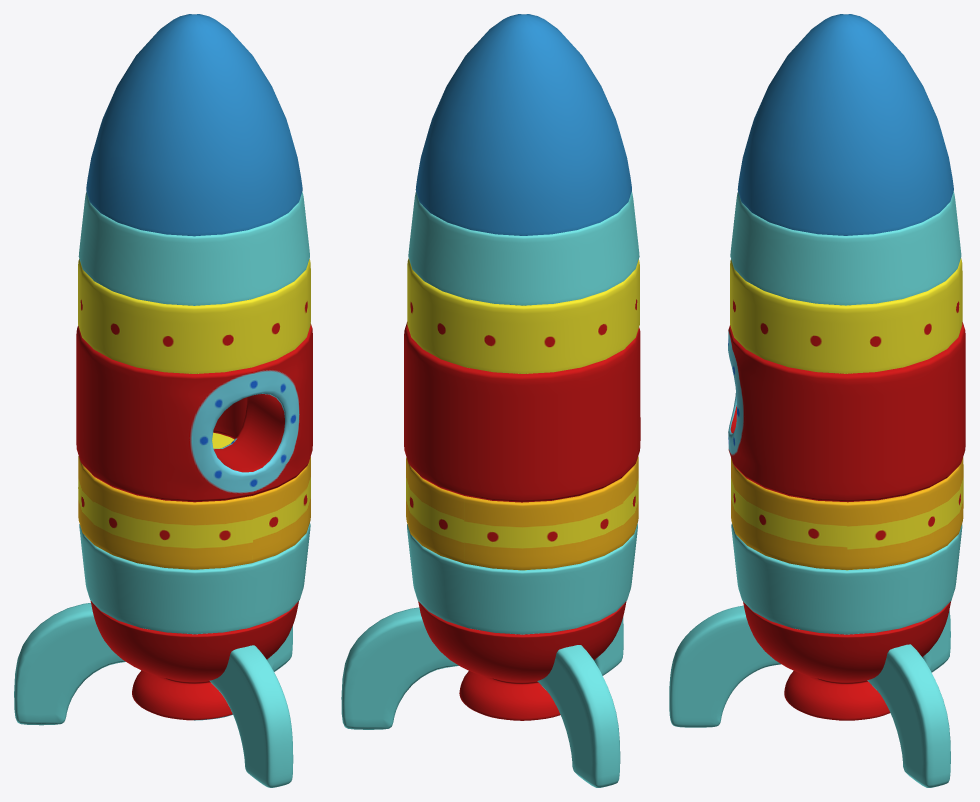
The model's file is rocket.glb.
The picture shows the model from 3 angles, left to right: view 1: azimuth 30°, elevation 25°; view 2: azimuth 150°, elevation 25°; view 3: azimuth 270°, elevation 25°; orthographic projection.
Parts seen in each view (by area): view 1: Cylinder.009_4, Cylinder.014_7, Cylinder.011_6, Cylinder.015_8, Cylinder.010_5, Cylinder.016_9, Cylinder.017_10, Cube.004_1, Cube.006_3; view 2: Cylinder.009_4, Cylinder.014_7, Cylinder.011_6, Cylinder.010_5, Cylinder.015_8, Cylinder.016_9, Cylinder.017_10, Cube.005_2, Cube.004_1, Cube.006_3; view 3: Cylinder.009_4, Cylinder.014_7, Cylinder.011_6, Cylinder.010_5, Cylinder.015_8, Cylinder.016_9, Cylinder.017_10, Cube.006_3, Cube.005_2, Cube.004_1.
Boxes of the visible parts, x1=… form: Cylinder.009_4: x1=86, y1=14, x2=302, y2=236; Cylinder.014_7: x1=76, y1=323, x2=312, y2=502; Cylinder.011_6: x1=78, y1=192, x2=309, y2=305; Cylinder.015_8: x1=78, y1=432, x2=310, y2=569; Cylinder.010_5: x1=78, y1=259, x2=310, y2=373; Cylinder.016_9: x1=79, y1=523, x2=310, y2=634; Cylinder.017_10: x1=90, y1=601, x2=298, y2=720; Cube.004_1: x1=14, y1=602, x2=125, y2=725; Cube.006_3: x1=209, y1=645, x2=293, y2=787; Cylinder.009_4: x1=415, y1=14, x2=631, y2=235; Cylinder.014_7: x1=404, y1=322, x2=640, y2=502; Cylinder.011_6: x1=408, y1=191, x2=639, y2=305; Cylinder.010_5: x1=407, y1=258, x2=639, y2=373; Cylinder.015_8: x1=406, y1=456, x2=638, y2=570; Cylinder.016_9: x1=407, y1=524, x2=637, y2=634; Cylinder.017_10: x1=418, y1=601, x2=626, y2=720; Cube.005_2: x1=341, y1=607, x2=458, y2=729; Cube.004_1: x1=537, y1=645, x2=620, y2=787; Cube.006_3: x1=594, y1=617, x2=623, y2=675; Cylinder.009_4: x1=737, y1=14, x2=953, y2=235; Cylinder.014_7: x1=728, y1=322, x2=965, y2=502; Cylinder.011_6: x1=730, y1=191, x2=961, y2=305; Cylinder.010_5: x1=730, y1=258, x2=962, y2=373; Cylinder.015_8: x1=731, y1=457, x2=963, y2=570; Cylinder.016_9: x1=731, y1=523, x2=962, y2=634; Cylinder.017_10: x1=743, y1=601, x2=950, y2=720; Cube.006_3: x1=669, y1=605, x2=780, y2=727; Cube.005_2: x1=867, y1=644, x2=950, y2=787; Cube.004_1: x1=922, y1=610, x2=950, y2=672.
Bounding box in the file's own units: 5.64 × 13.8 × 5.23.
6 materials, 3 textured.
